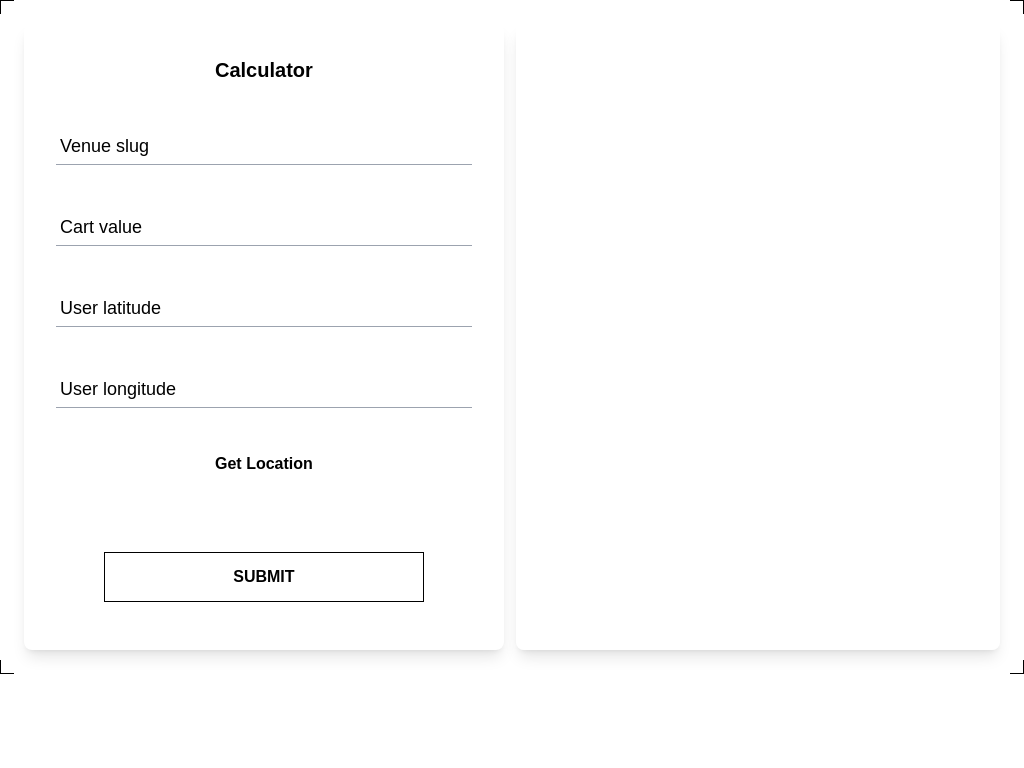
Scenario: Form Integration Test › displays an error message when the form is submitted with an 10.0000, 20.0000 as coordinates (too far away)
// invalid coordinates
Type "home-assignment-venue-helsinki" into the field with test id "venueSlug" at (264, 140), box [56, 116, 472, 165]
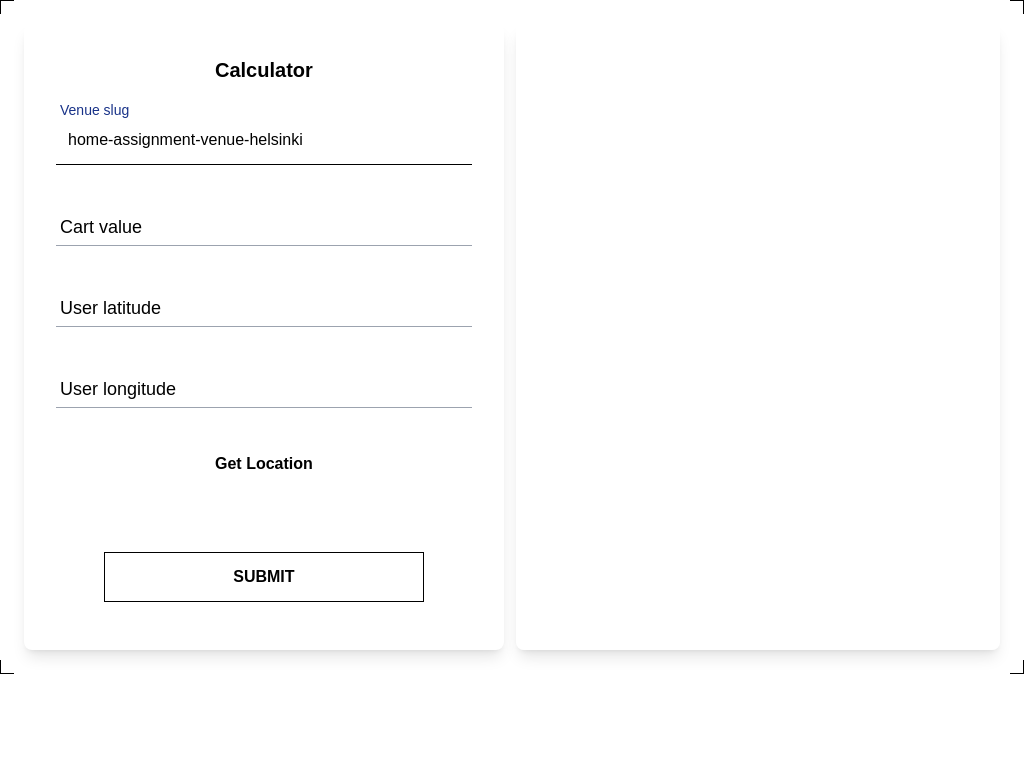
Type "7" into the field with test id "cartValue" at (264, 222), box [56, 197, 472, 246]
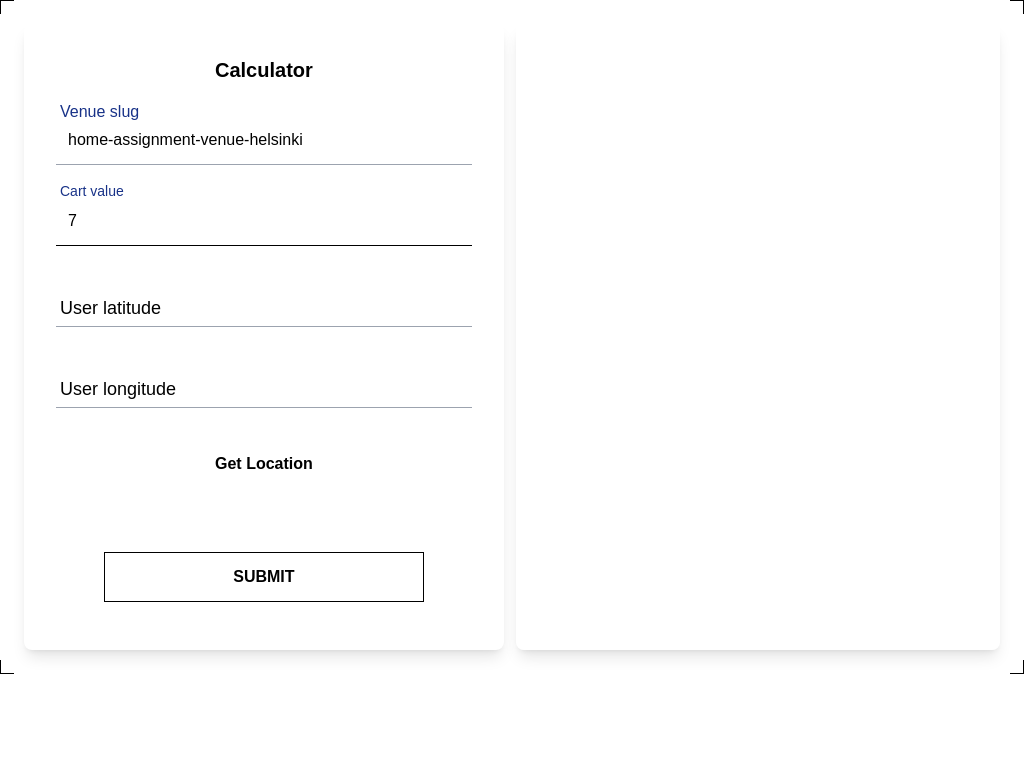
Type "10.0000" into the field with test id "userLatitude" at (264, 302), box [56, 278, 472, 327]
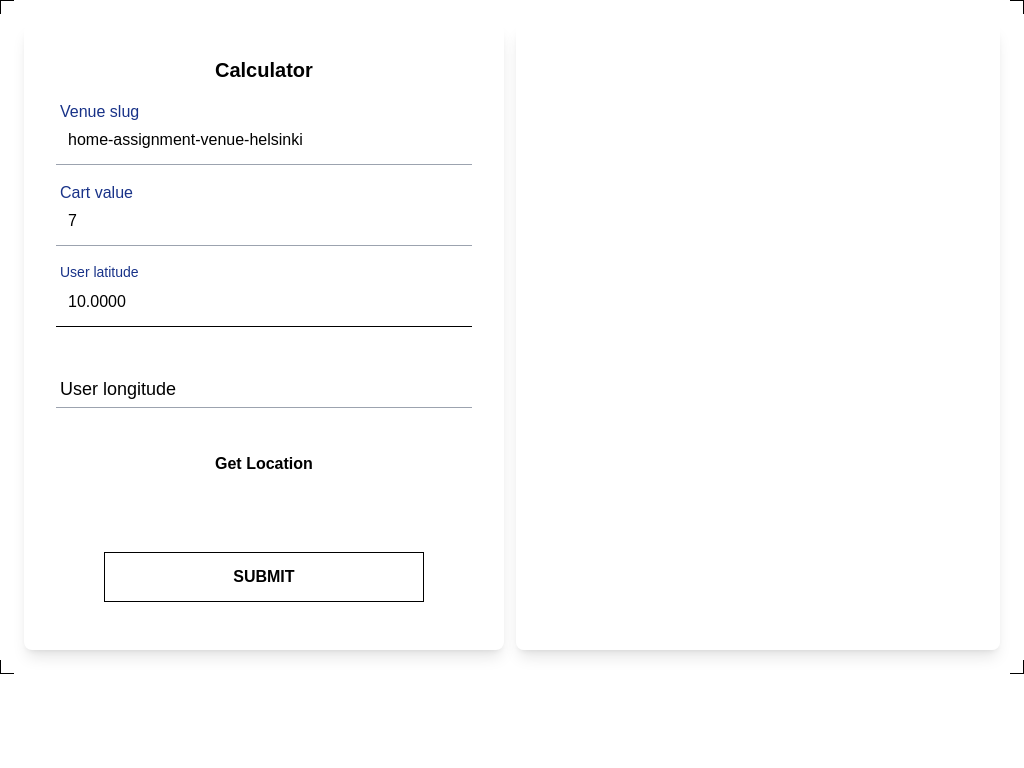
Type "20.0000" into the field with test id "userLongitude" at (264, 384), box [56, 359, 472, 408]
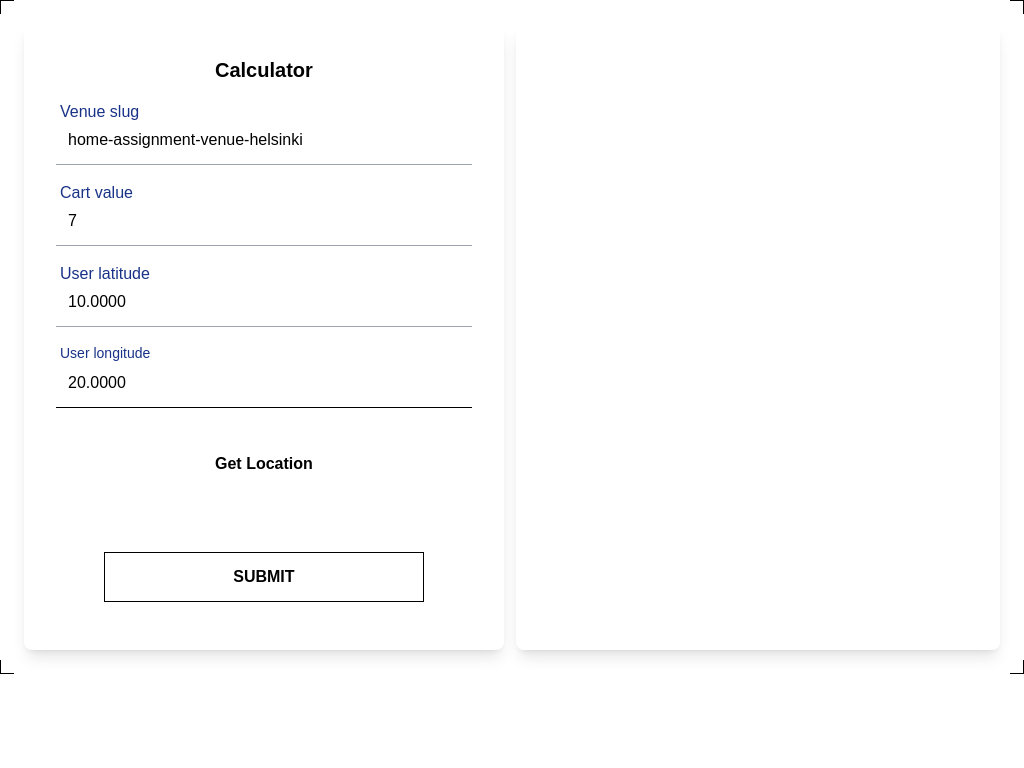
Click the button with test id "submit" at (264, 577), box [104, 552, 424, 602]
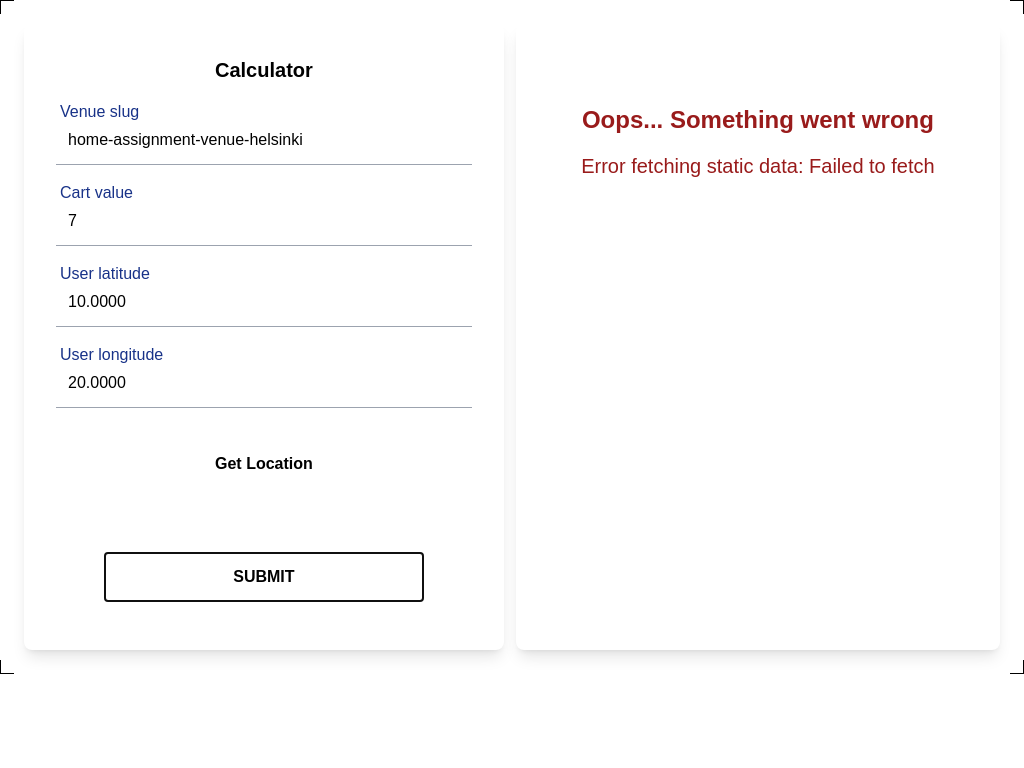
Expected: the heading with test id "errorMsg" reads "Oops... Something went wrong", [582, 106, 934, 133]
